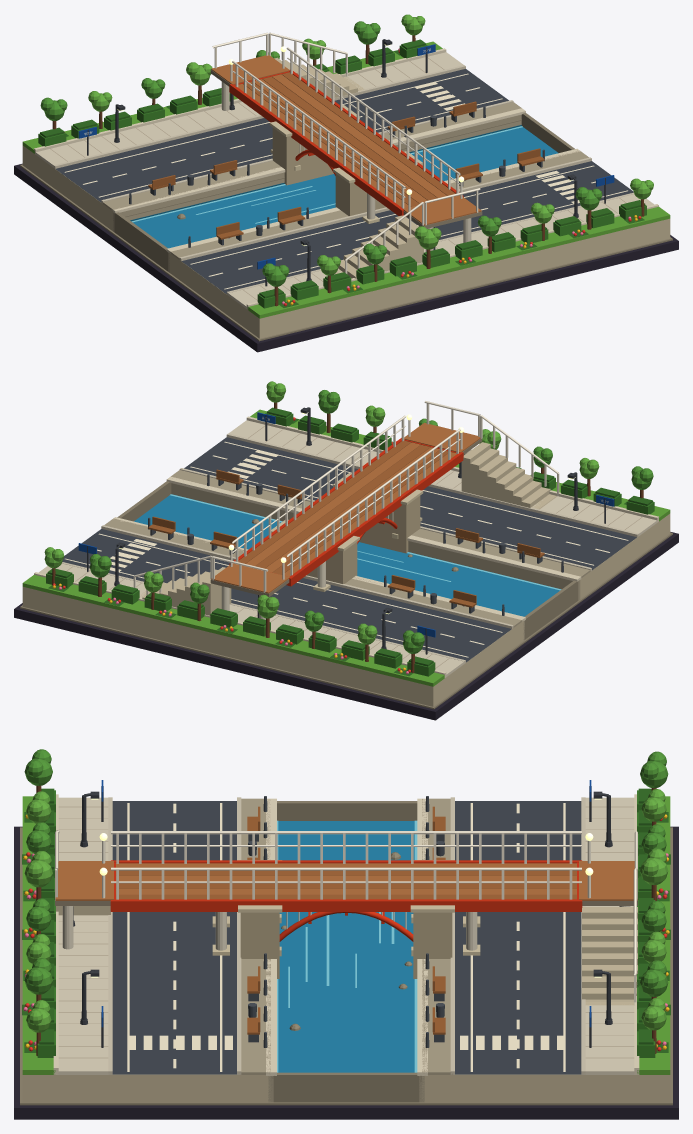
File: env_river_bridge.glb
The picture shows the model from 3 angles, top to bottom: view 1: azimuth 30°, elevation 25°; view 2: azimuth 150°, elevation 25°; view 3: azimuth 270°, elevation 25°; orthographic projection. The views are drawn at different scales.
Visible parts, largest first — view 1: Road_SurfaceN, Road_SurfaceS, Base_LandS, River_Water, Base_Plinth, Walk_SidewalkN, Walk_BeltS, Bank_WallN, Walk_SidewalkS, Walk_PromenadeN, Walk_PromenadeS, Base_PlinthRim (+26 smaller); view 2: Road_SurfaceS, Road_SurfaceN, Base_LandN, River_Water, Base_Plinth, Walk_SidewalkS, Walk_BeltN, Bank_WallS, Walk_SidewalkN, Walk_PromenadeS, Walk_PromenadeN, Base_PlinthRim (+29 smaller); view 3: Road_SurfaceN, River_Water, Road_SurfaceS, Base_Plinth, Walk_SidewalkS, Base_LandN, Base_LandS, Walk_SidewalkN, Deck_EdgeBeam1, Base_RiverEnd1, Base_PlinthRim, Walk_PromenadeS (+36 smaller).
Part boxes in pixels (x1,y1,x2,y2): Road_SurfaceN: [56, 69, 508, 202]; Road_SurfaceS: [181, 161, 633, 293]; Base_LandS: [169, 218, 670, 338]; River_Water: [133, 127, 558, 248]; Base_Plinth: [14, 163, 678, 352]; Walk_SidewalkN: [35, 52, 463, 167]; Walk_BeltS: [247, 206, 670, 318]; Bank_WallN: [113, 114, 521, 232]; Walk_SidewalkS: [227, 194, 654, 308]; Walk_PromenadeN: [102, 102, 521, 210]; Walk_PromenadeS: [169, 150, 588, 259]; Base_PlinthRim: [20, 164, 672, 341]; Road_SurfaceS: [184, 437, 636, 570]; Road_SurfaceN: [62, 529, 511, 662]; Base_LandN: [22, 587, 523, 706]; River_Water: [134, 494, 560, 616]; Base_Plinth: [14, 532, 678, 720]; Walk_SidewalkS: [229, 420, 657, 535]; Walk_BeltN: [22, 575, 444, 686]; Bank_WallS: [171, 483, 580, 600]; Walk_SidewalkN: [39, 563, 465, 676]; Walk_PromenadeS: [171, 470, 590, 577]; Walk_PromenadeN: [104, 518, 522, 627]; Base_PlinthRim: [20, 532, 672, 709]; Road_SurfaceN: [455, 801, 581, 1074]; River_Water: [278, 821, 414, 1072]; Road_SurfaceS: [112, 801, 236, 1074]; Base_Plinth: [14, 826, 678, 1119]; Walk_SidewalkS: [57, 797, 109, 1074]; Base_LandN: [422, 1074, 670, 1102]; Base_LandS: [22, 1074, 270, 1102]; Walk_SidewalkN: [583, 797, 636, 1074]; Deck_EdgeBeam1: [111, 899, 581, 911]; Base_RiverEnd1: [271, 1072, 421, 1102]; Base_PlinthRim: [20, 827, 672, 1105]; Walk_PromenadeS: [241, 798, 270, 1074].
Bounding box in the file's own units: 12.32 × 2.65 × 12.32.
